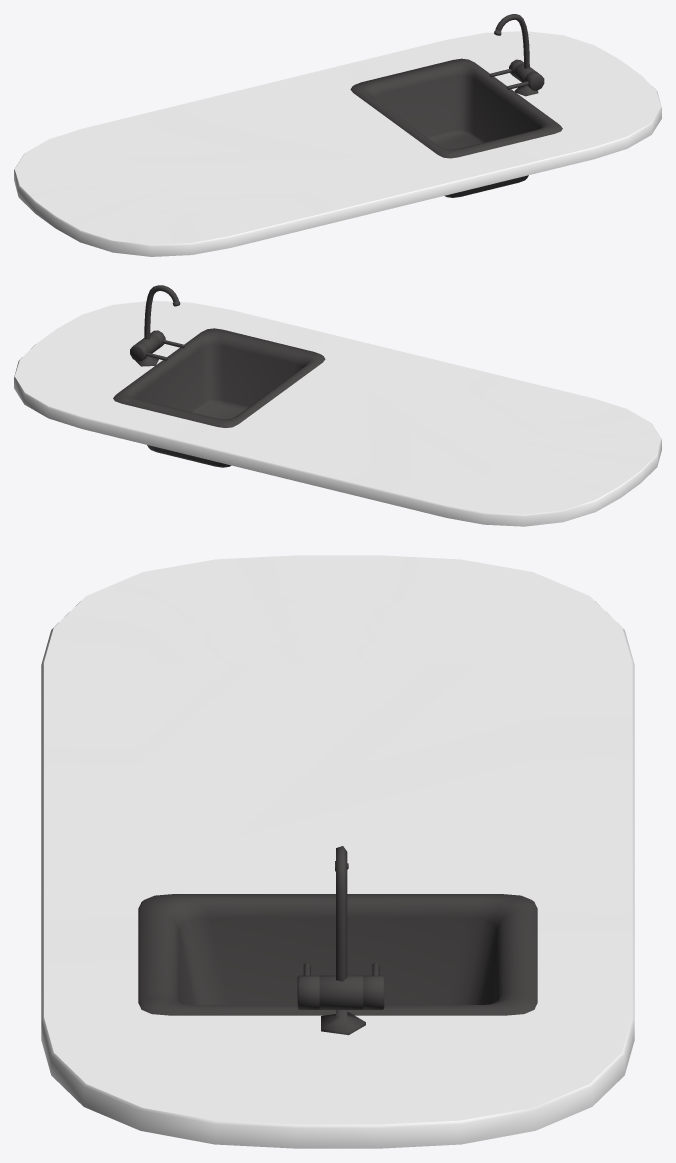
File: Kitchen_Island_Ceremic.FBX
3 renders of one model, top to bottom at view 1: azimuth 30°, elevation 25°; view 2: azimuth 150°, elevation 25°; view 3: azimuth 270°, elevation 25°, orthographic. The views are drawn at different scales.
Parts seen in each view (by area): view 1: Kitchen_Island; view 2: Kitchen_Island; view 3: Kitchen_Island.
Part boxes in pixels (left/top/right/bottom): Kitchen_Island: left=14, top=14, right=661, bottom=256; Kitchen_Island: left=14, top=285, right=661, bottom=526; Kitchen_Island: left=41, top=555, right=634, bottom=1148.
Bounding box in the file's own units: 2.74 × 0.6107 × 1.2.
